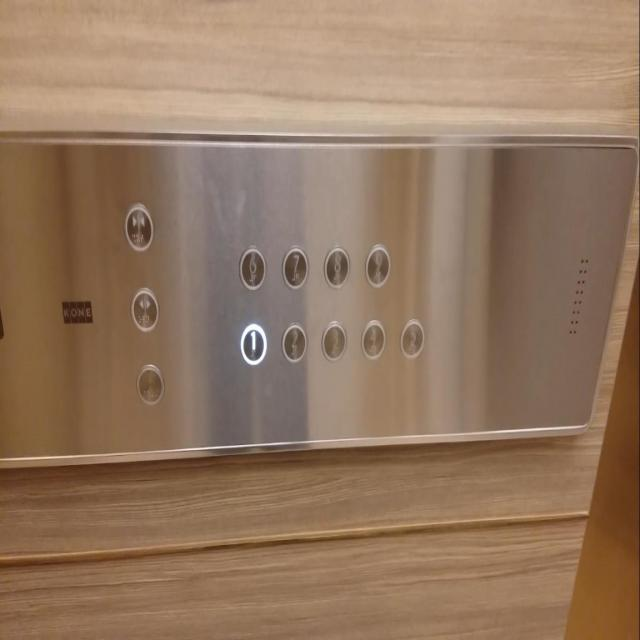1: (239, 322, 267, 368)
2: (281, 321, 307, 364)
3: (321, 320, 346, 361)
4: (359, 318, 386, 361)
5: (398, 317, 424, 360)
6: (238, 245, 266, 292)
7: (281, 243, 308, 290)
8: (323, 244, 349, 289)
9: (364, 244, 390, 288)
close: (122, 202, 154, 252)
empty: (135, 362, 163, 406)
open: (129, 286, 160, 332)
